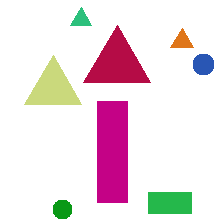circle: (193, 54, 213, 74), (53, 200, 71, 218)
rectangle: (97, 101, 127, 202), (148, 192, 191, 213)
triangle: (83, 25, 150, 82), (24, 55, 81, 104), (170, 28, 193, 47), (70, 7, 91, 25)
